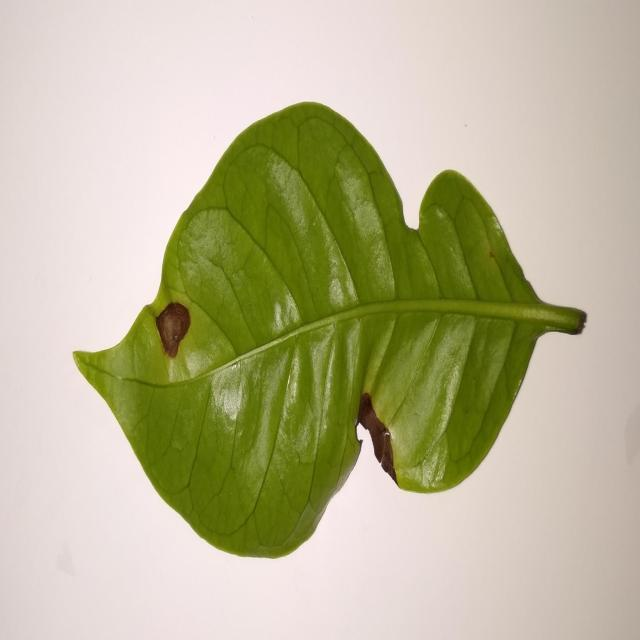phoma: (355, 394, 398, 484), (155, 302, 191, 359)
